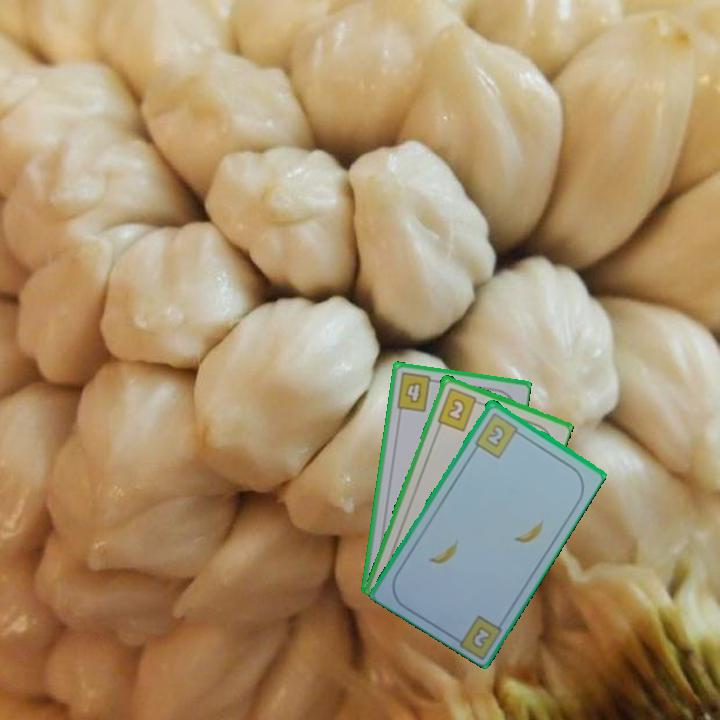2b: (471, 409, 525, 460), (434, 384, 484, 433), (468, 622, 495, 651)
4b: (393, 369, 440, 415)
